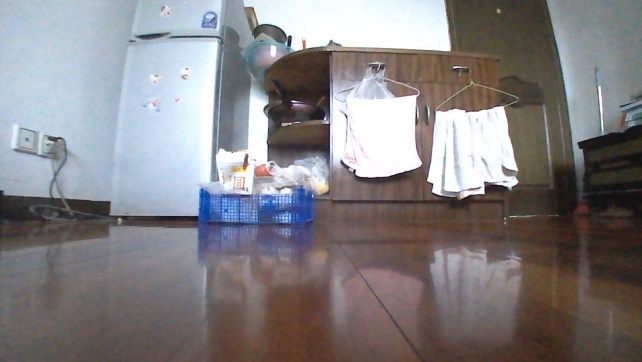cabinet: (570, 123, 641, 215)
door_anno: (445, 0, 580, 217)
refrigerator: (105, 0, 258, 225)
wire: (26, 133, 104, 221)
